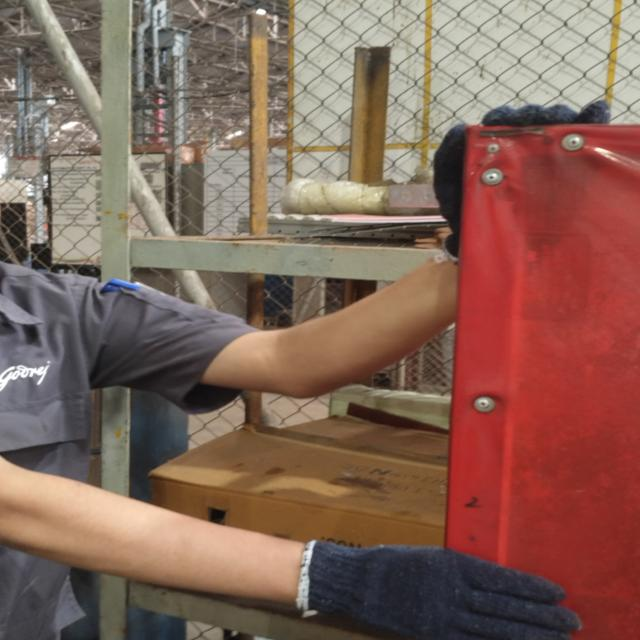Gloves-Detection: (294, 510, 569, 640), (434, 114, 574, 227)
